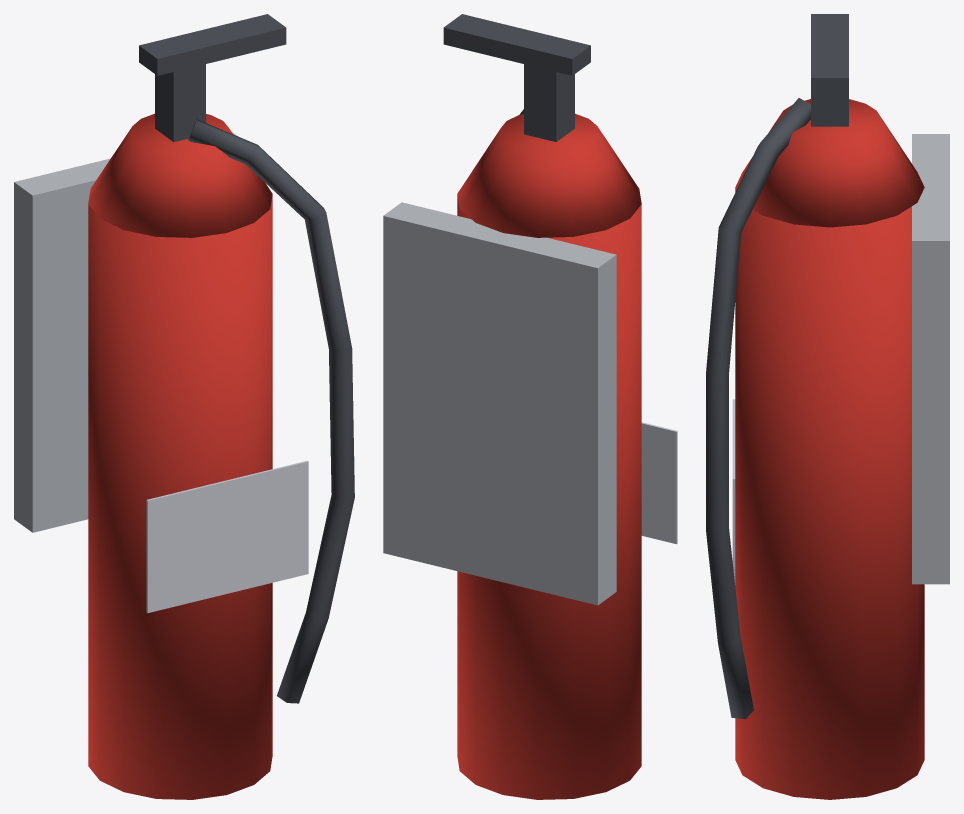
The model's file is Deco_Extinguisher.gltf.
3 views of the same model, side by side, from view 1: azimuth 30°, elevation 25°; view 2: azimuth 150°, elevation 25°; view 3: azimuth 270°, elevation 25° (orthographic).
Visible parts, largest first — view 1: Deco_Extinguisher; view 2: Deco_Extinguisher; view 3: Deco_Extinguisher.
Part boxes in pixels (box(x1,y1,x2,y2)): Deco_Extinguisher: box(14, 14, 354, 799); Deco_Extinguisher: box(383, 14, 677, 799); Deco_Extinguisher: box(706, 14, 949, 799).
Bounding box in the file's own units: 0.2095 × 0.6375 × 0.1931.
